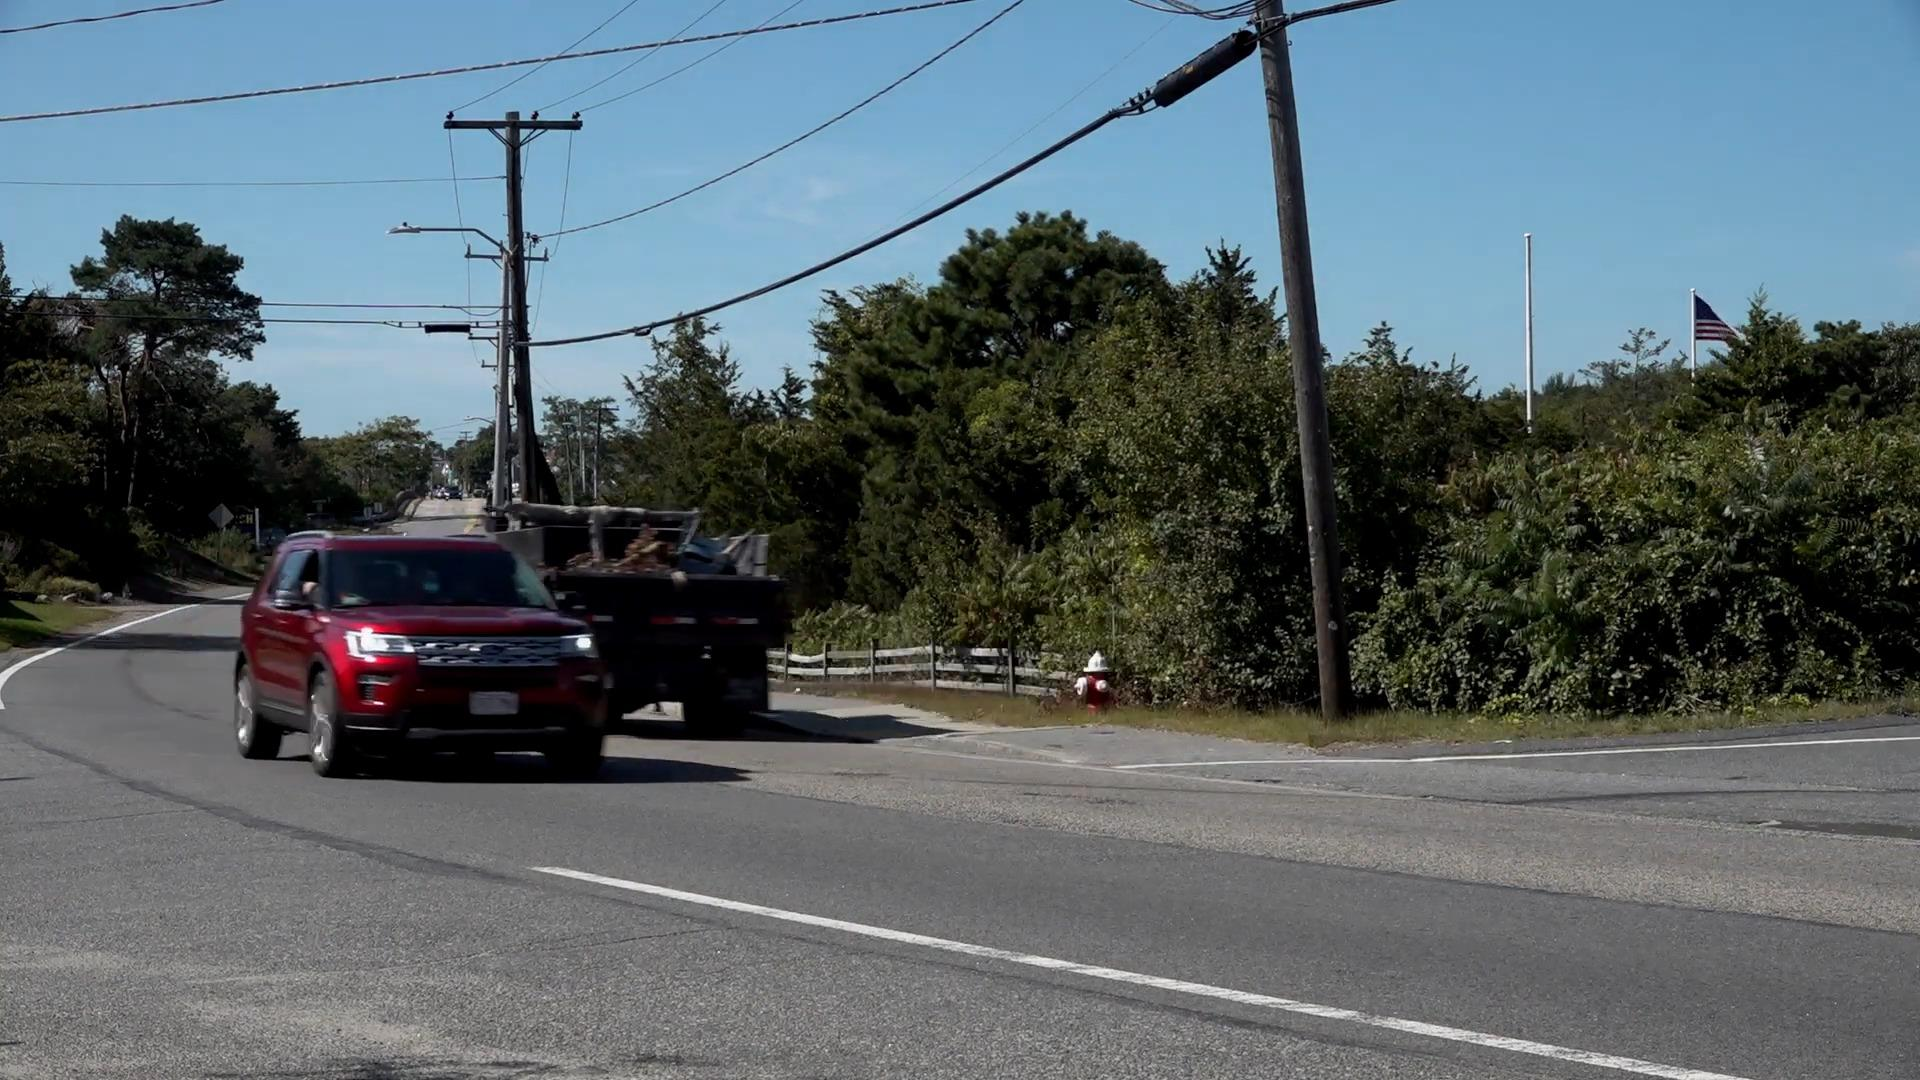suv: (239, 535, 608, 774)
